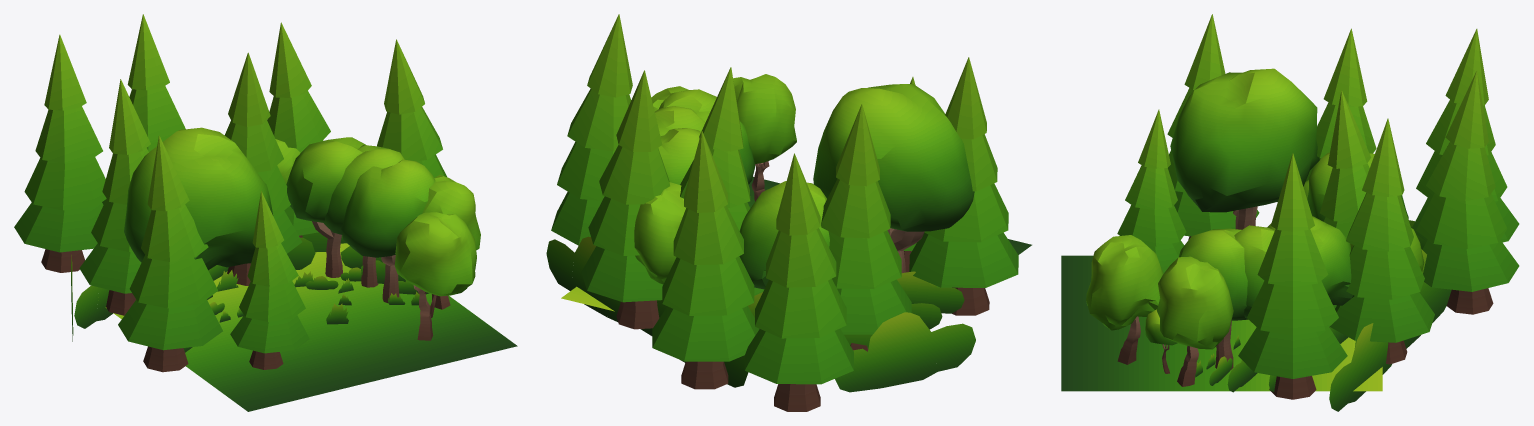
The model's file is Cenario_menu2.fbx.
3 renders of one model, left to right at view 1: azimuth 30°, elevation 25°; view 2: azimuth 150°, elevation 25°; view 3: azimuth 270°, elevation 25°, orthographic. The views are drawn at different scales.
Parts seen in each view (by area): view 1: Cenario Menu; view 2: Cenario Menu; view 3: Cenario Menu.
Boxes of the visible parts, x1,y1,x2,y2 form: Cenario Menu: (14,14,517,411); Cenario Menu: (546,14,1031,411); Cenario Menu: (1061,14,1519,411).
Size of the model in its own units: 5560 by 3482 by 5652.
